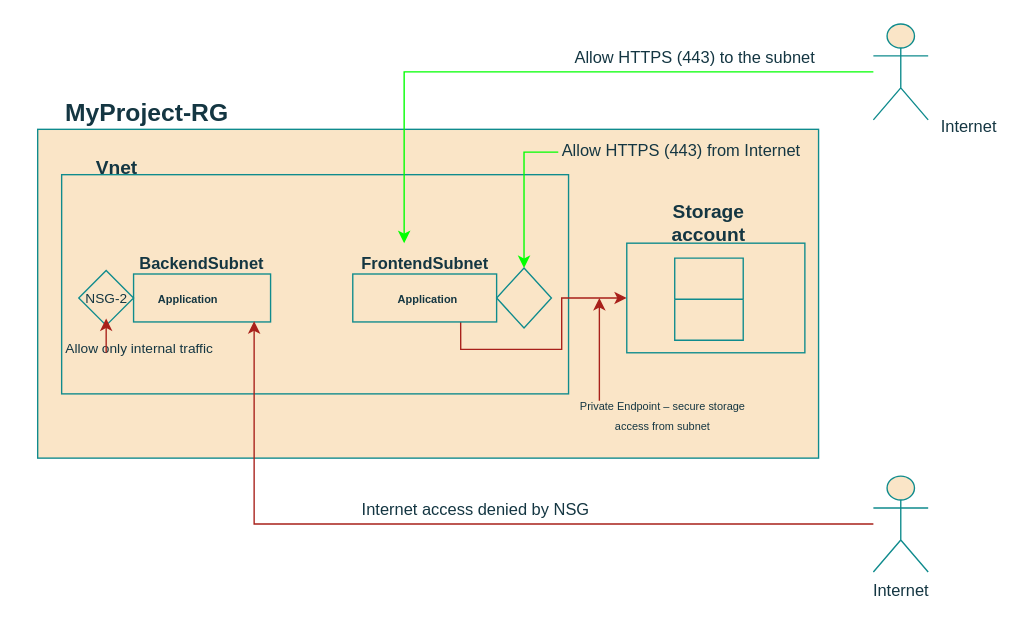
Image size: 1033x625. Some labels were removed from this diagram. Here are the shapes that lost their labels. From the top down, the box of each, then its label:
(495, 267, 551, 328): NSG-1
(673, 257, 743, 340): Files
